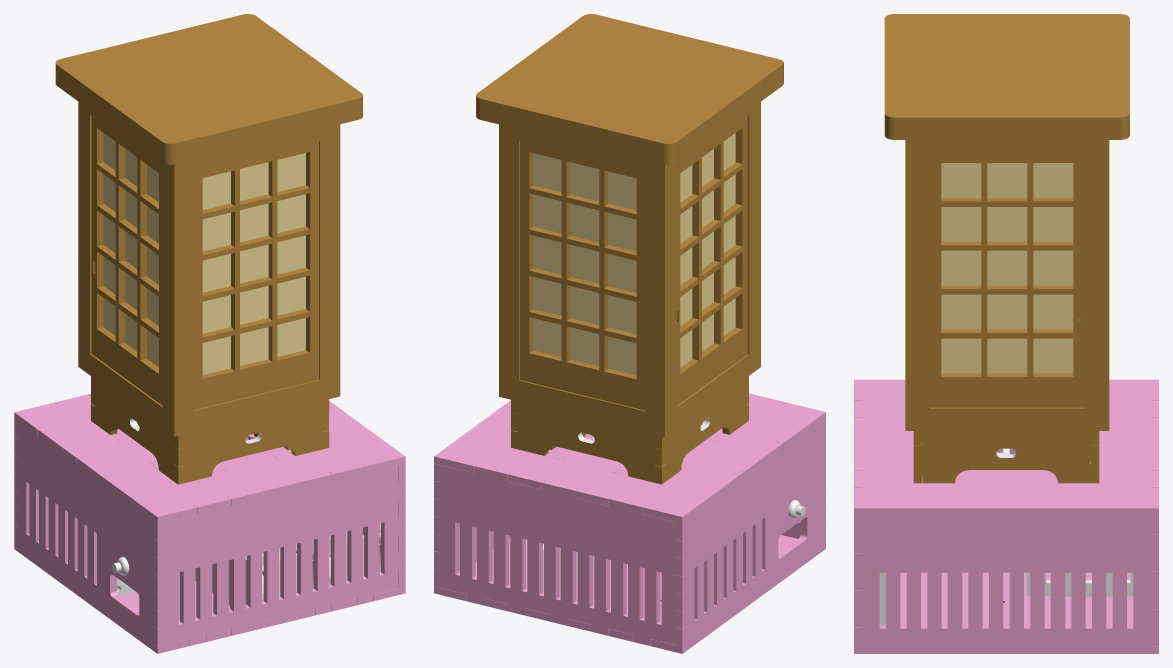
Rendered from Lantern_new_Assem_OBJ.obj.
The picture shows the model from 3 angles, left to right: view 1: azimuth 30°, elevation 25°; view 2: azimuth 150°, elevation 25°; view 3: azimuth 270°, elevation 25°; orthographic projection. The views are drawn at different scales.
Parts seen in each view (by area): view 1: plate_L4_2-4, topPlate, plate_L4_2_3, shoji_withHandle_4, plate_L_1_1, shoji_4, shoji_withHandle_3, 12x12x136.5_3, legPlate_sensorHole-4, shoji_3, 12x12x136.5_4, 12×12×99_withoutHole_4 (+6 smaller); view 2: plate_L4_2-2, topPlate, plate_L4_2_3, shoji_withHandle_2, plate_L_1_1, shoji_2, shoji_withHandle_3, 12x12x136.5_2, legPlate_sensorHole-2, shoji_3, 12x12x136.5_1, 12×12×99_withoutHole_2 (+7 smaller); view 3: plate_L4_2-1, topPlate, shoji_1, plate_L_1_1, shoji_withHandle_1, legPlate_sensorHole-1, 12x12x136.5_1, 12x12x136.5_4, Base_plate_L2_1, 12×12×99_withoutHole_1, 12×12×99_withHole_1, plate_L4_2-2 (+2 smaller).
Boxes of the visible parts, x1=… form: plate_L4_2-4: x1=153, y1=463, x2=405, y2=646; topPlate: x1=55, y1=14, x2=362, y2=164; plate_L4_2_3: x1=14, y1=419, x2=164, y2=643; shoji_withHandle_4: x1=194, y1=141, x2=318, y2=409; plate_L_1_1: x1=14, y1=393, x2=405, y2=523; shoji_4: x1=202, y1=153, x2=305, y2=374; shoji_withHandle_3: x1=91, y1=116, x2=162, y2=405; 12x12x136.5_3: x1=162, y1=168, x2=194, y2=415; legPlate_sensorHole-4: x1=174, y1=399, x2=329, y2=482; shoji_3: x1=103, y1=133, x2=158, y2=367; 12x12x136.5_4: x1=319, y1=136, x2=340, y2=380; 12×12×99_withoutHole_4: x1=174, y1=375, x2=340, y2=436; plate_L4_2-2: x1=434, y1=463, x2=686, y2=645; topPlate: x1=476, y1=14, x2=783, y2=164; plate_L4_2_3: x1=675, y1=422, x2=825, y2=646; shoji_withHandle_2: x1=520, y1=141, x2=644, y2=410; plate_L_1_1: x1=434, y1=393, x2=825, y2=523; shoji_2: x1=533, y1=153, x2=636, y2=375; shoji_withHandle_3: x1=676, y1=116, x2=747, y2=405; 12x12x136.5_2: x1=645, y1=168, x2=676, y2=415; legPlate_sensorHole-2: x1=511, y1=401, x2=665, y2=484; shoji_3: x1=680, y1=133, x2=735, y2=367; 12x12x136.5_1: x1=499, y1=136, x2=519, y2=380; 12×12×99_withoutHole_2: x1=499, y1=376, x2=664, y2=437; plate_L4_2-1: x1=854, y1=505, x2=1158, y2=653; topPlate: x1=884, y1=14, x2=1129, y2=139; shoji_1: x1=941, y1=163, x2=1073, y2=373; plate_L_1_1: x1=854, y1=379, x2=1158, y2=515; shoji_withHandle_1: x1=930, y1=153, x2=1084, y2=407; legPlate_sensorHole-1: x1=913, y1=431, x2=1099, y2=483; 12x12x136.5_1: x1=1084, y1=153, x2=1109, y2=408; 12x12x136.5_4: x1=905, y1=153, x2=929, y2=408; Base_plate_L2_1: x1=854, y1=572, x2=1158, y2=653; 12×12×99_withoutHole_1: x1=905, y1=407, x2=1109, y2=430; 12×12×99_withHole_1: x1=905, y1=140, x2=1109, y2=153; plate_L4_2-2: x1=1150, y1=400, x2=1158, y2=646.
Size of the model in its own units: 154 by 280 by 148.
